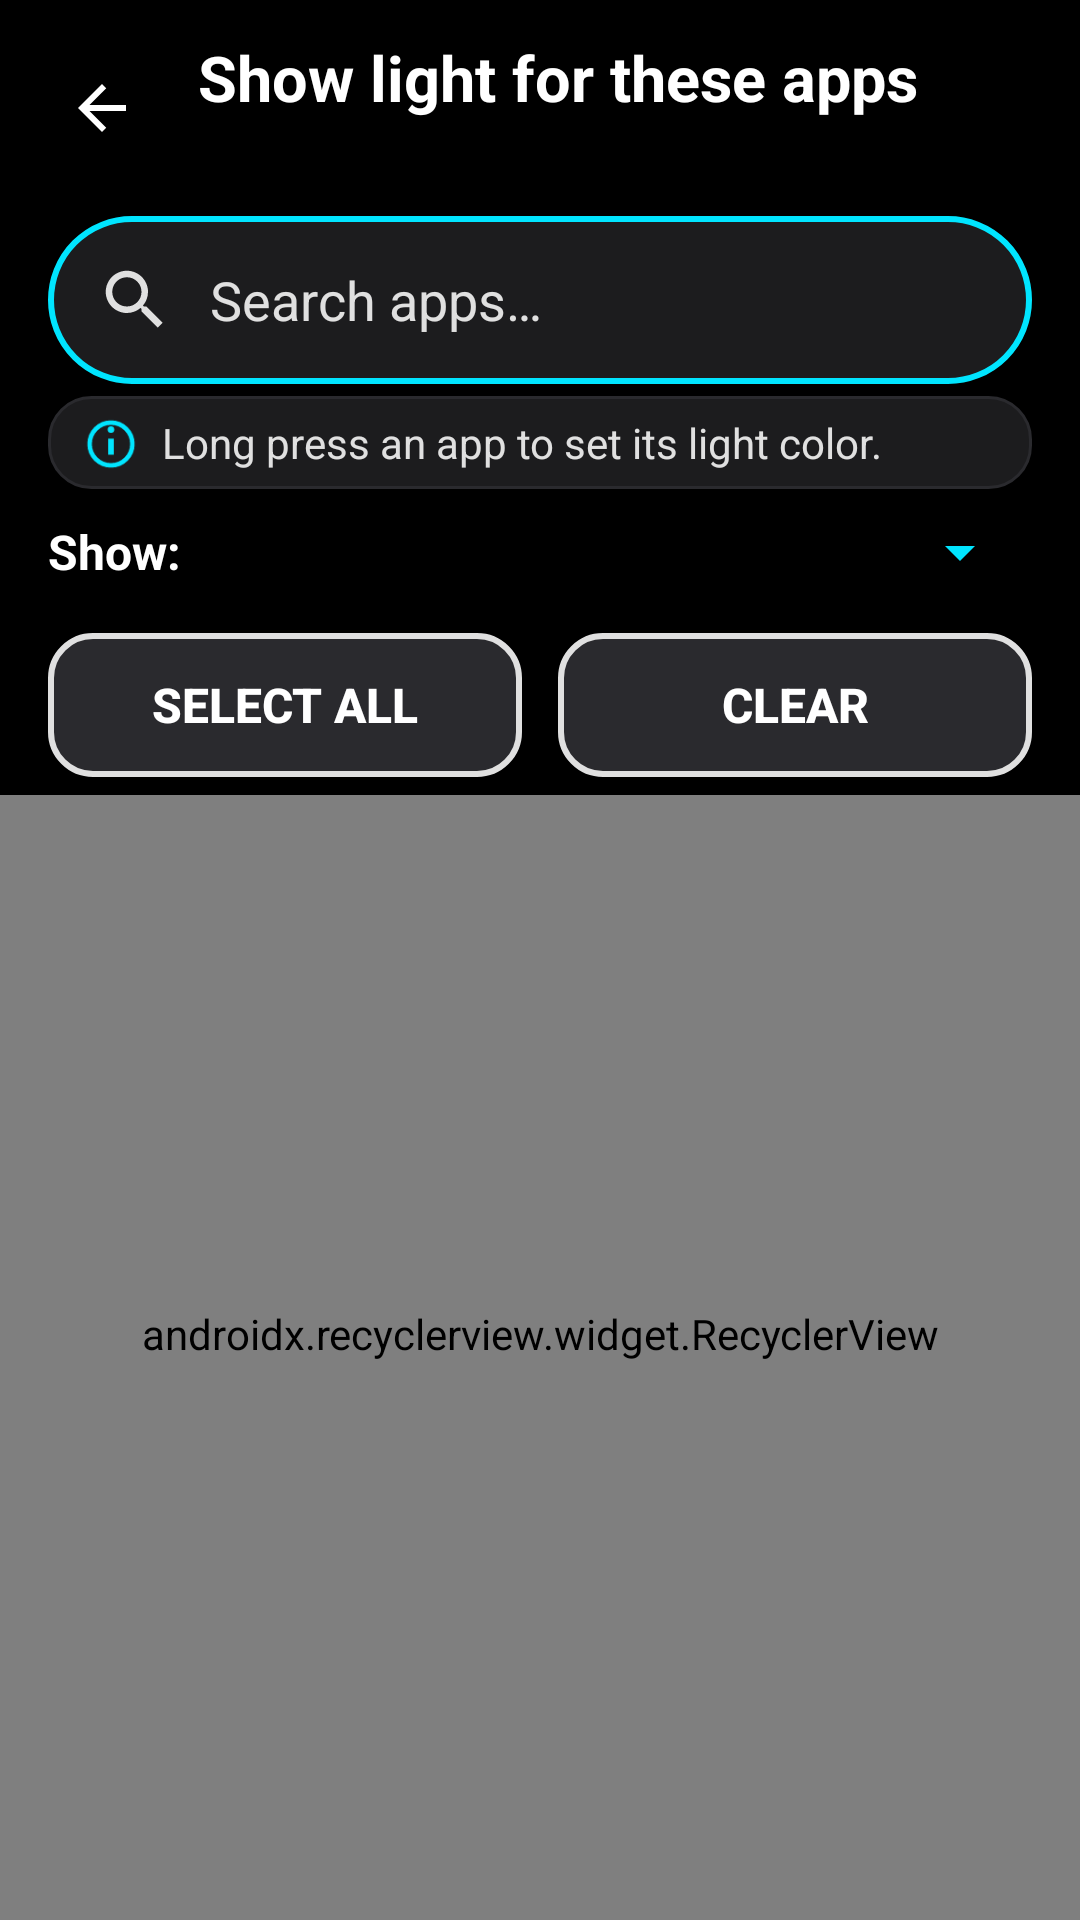

Point at icon controls on the screen. Image size 1080*1920, points as [x,y].
Back: [102,108]
info: [111,444]
